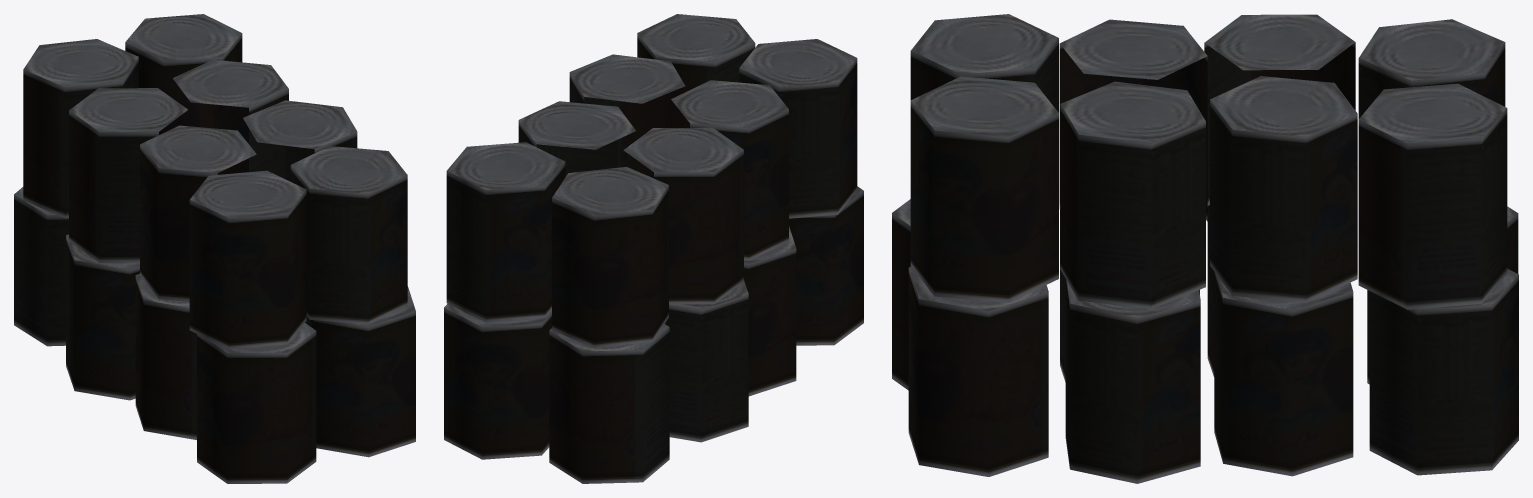
Rendered from p6_pak_food_can_stacked_01_lod1.glb.
The picture shows the model from 3 angles, left to right: view 1: azimuth 30°, elevation 25°; view 2: azimuth 150°, elevation 25°; view 3: azimuth 270°, elevation 25°; orthographic projection. The views are drawn at different scales.
Visible parts, largest first — view 1: surf0; view 2: surf0; view 3: surf0.
Boxes of the visible parts, left/top/right/bottom form: surf0: left=14, top=14, right=415, bottom=483; surf0: left=444, top=14, right=863, bottom=483; surf0: left=892, top=14, right=1518, bottom=483.
Bounding box in the file's own units: 11.99 × 12.84 × 21.9.
